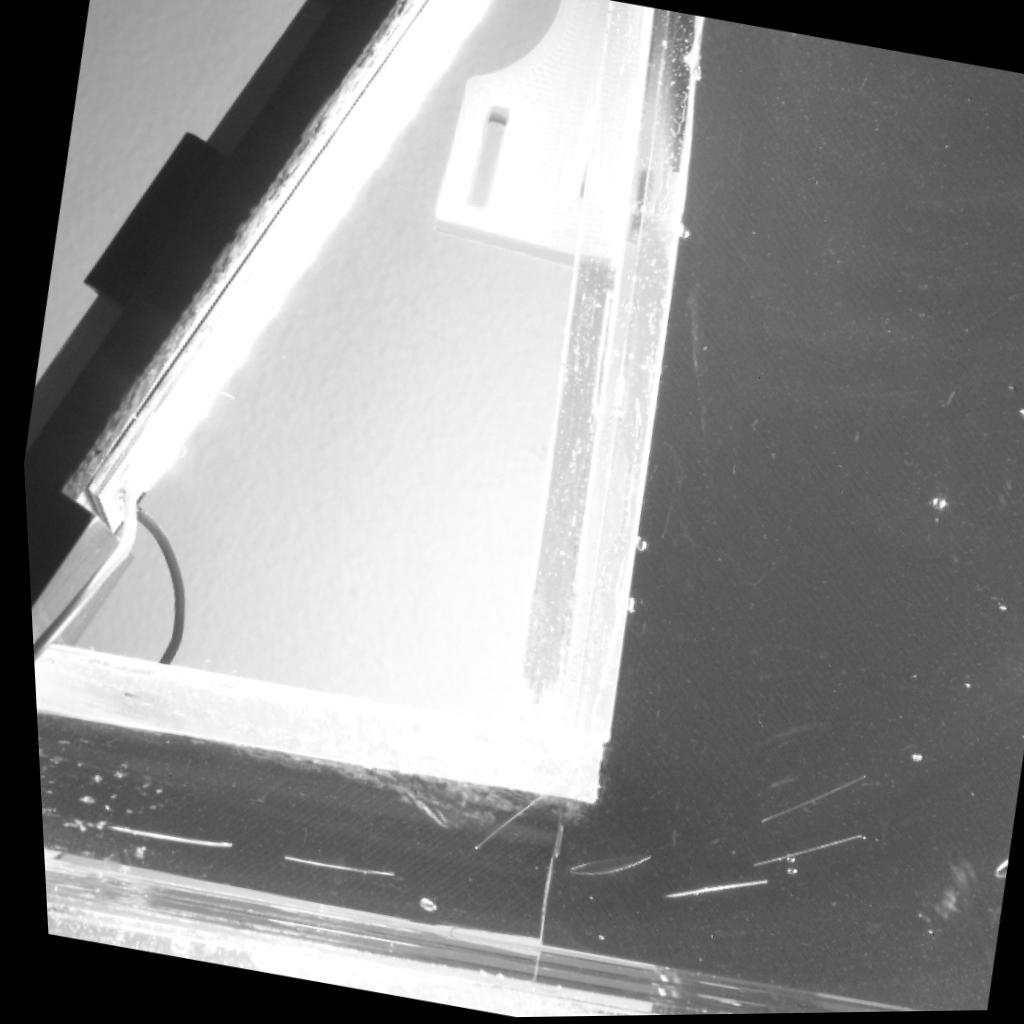Fiber: (753, 770, 859, 827), (464, 790, 542, 855), (86, 822, 225, 851), (744, 834, 850, 872), (649, 875, 759, 903), (270, 852, 387, 878)
